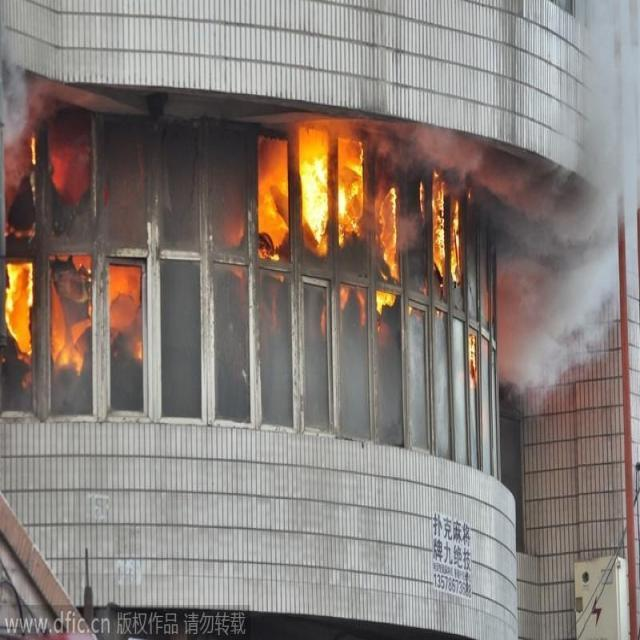Fire: (255, 109, 484, 384), (1, 245, 148, 388), (0, 84, 100, 246)
Smoke: (491, 1, 640, 415)
